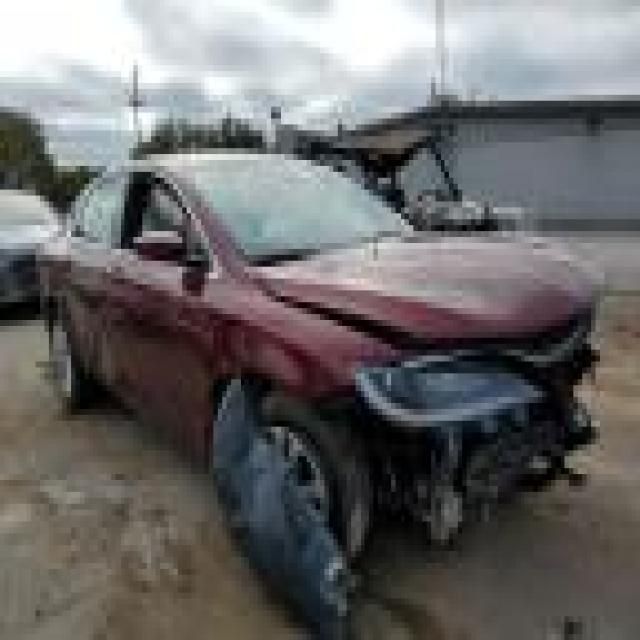severe: (254, 260, 640, 575)
